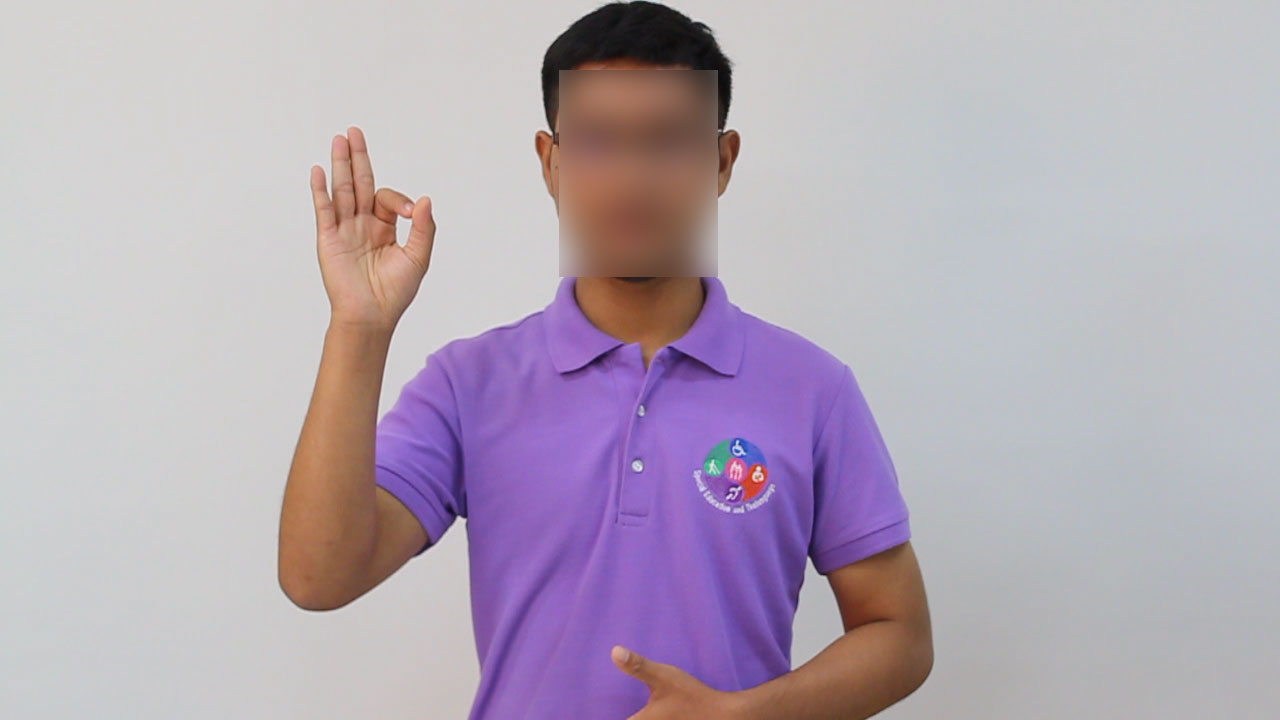for: (303, 116, 444, 354)
